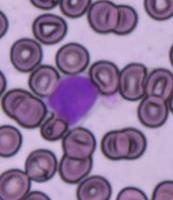L: (46, 72, 100, 126)
